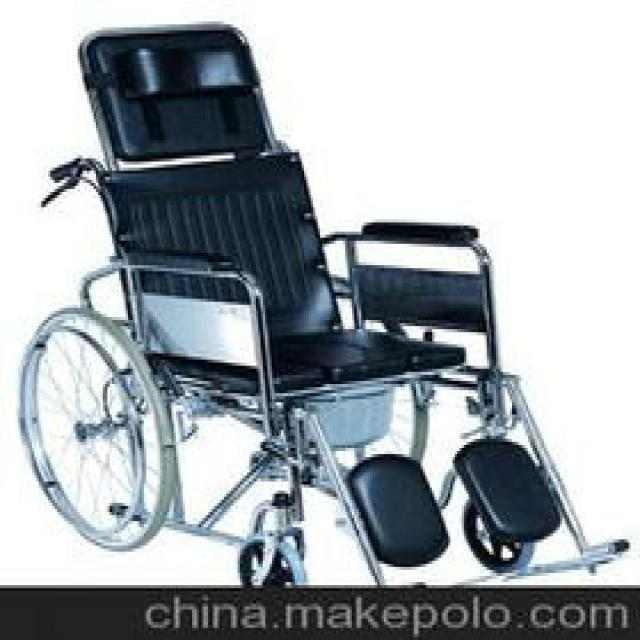wheelchairs: (24, 22, 626, 584)
